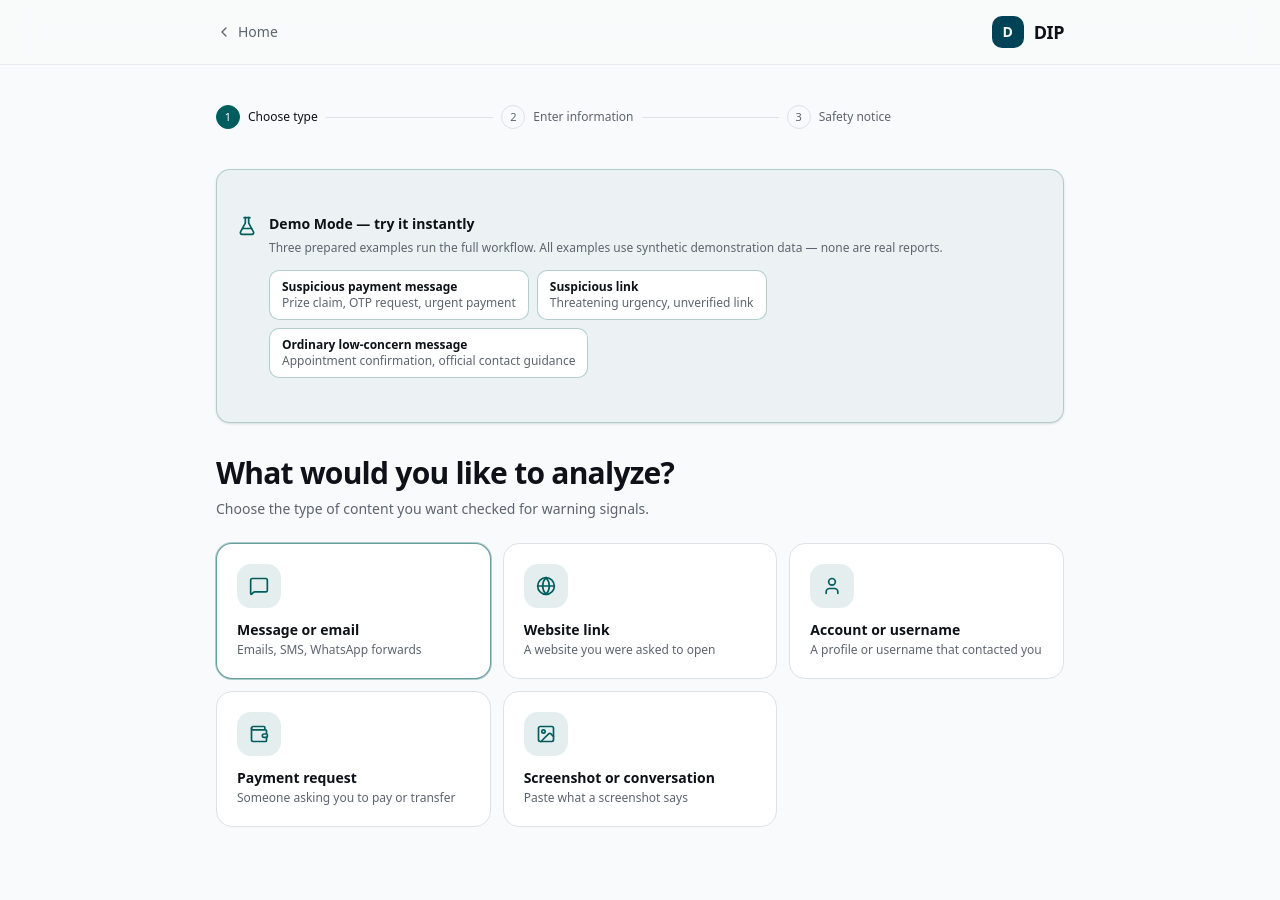
Test: QA audit: DIP browser-level checks › 7. result explains the warning signals
This screenshot has width=1280, height=900.
Click the text "Suspicious payment message" at (370, 286), box [282, 278, 458, 294]
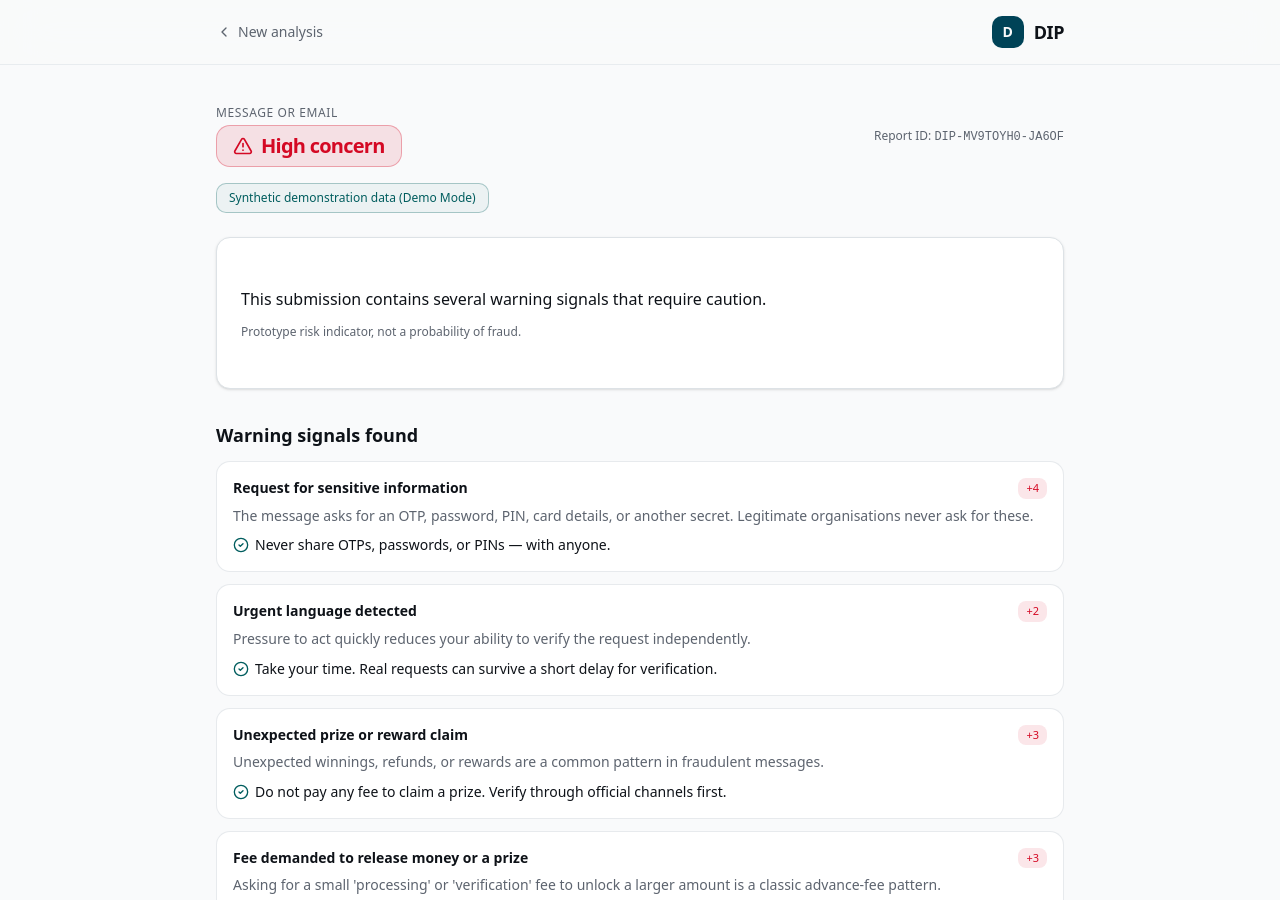
Expected: the heading "Warning signals found" is shown, [216, 423, 418, 447]
Expected: the text "Unexpected prize or reward claim" is shown, [233, 724, 468, 744]
Expected: the text "Request for sensitive information" is shown, [233, 478, 468, 498]
